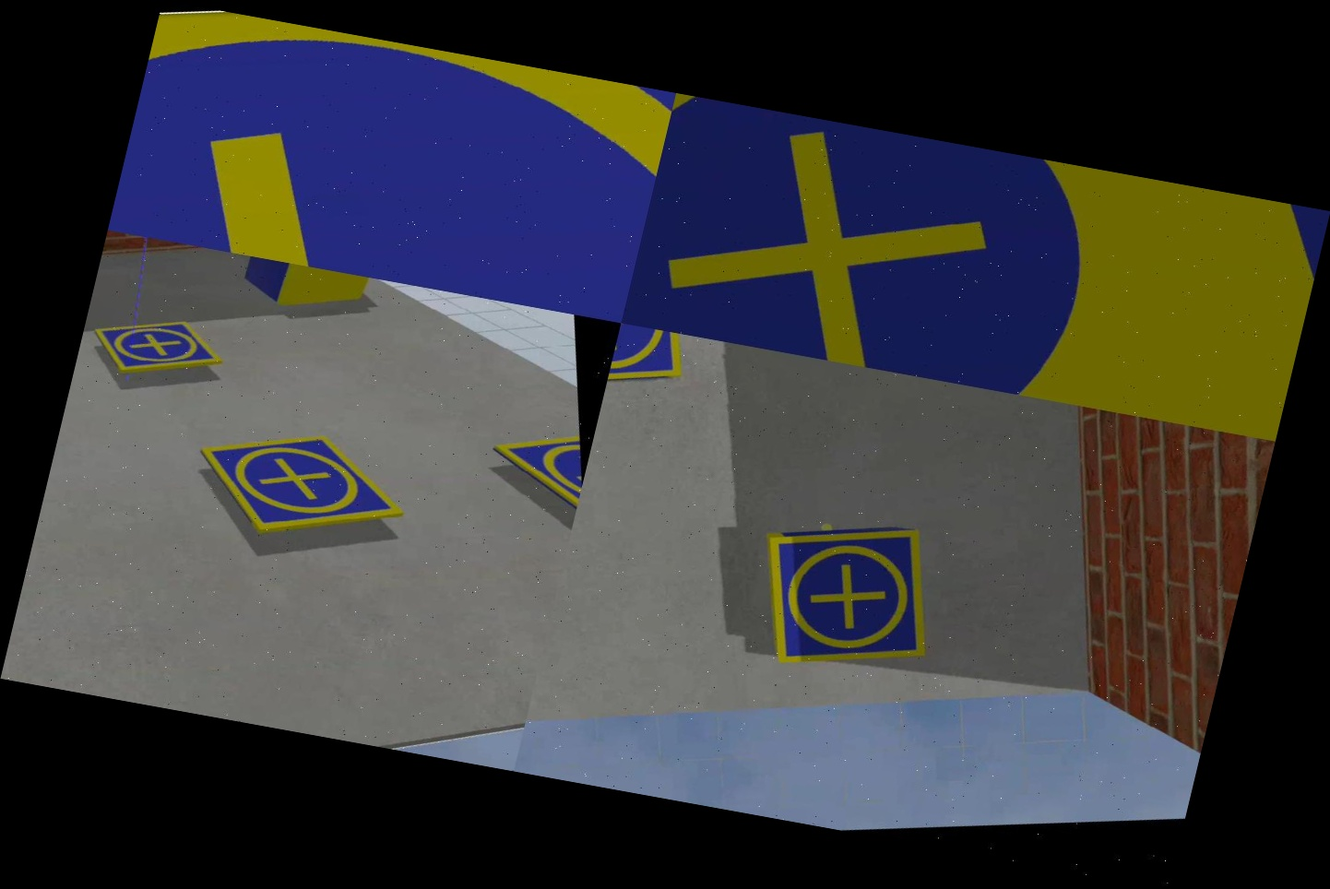large_base: (621, 93, 1329, 441)
small_base: (107, 0, 676, 323), (736, 502, 956, 692), (182, 401, 426, 567), (83, 300, 232, 395), (473, 421, 593, 527), (604, 323, 690, 405), (243, 255, 375, 281)
